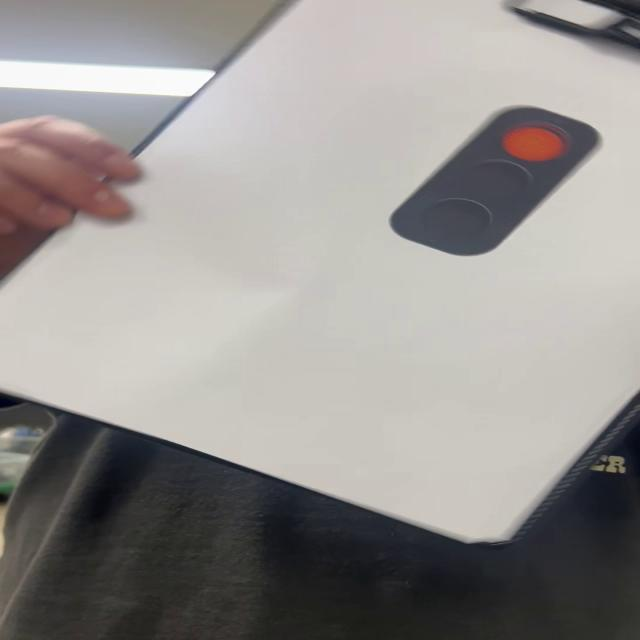red: (389, 105, 600, 257)
